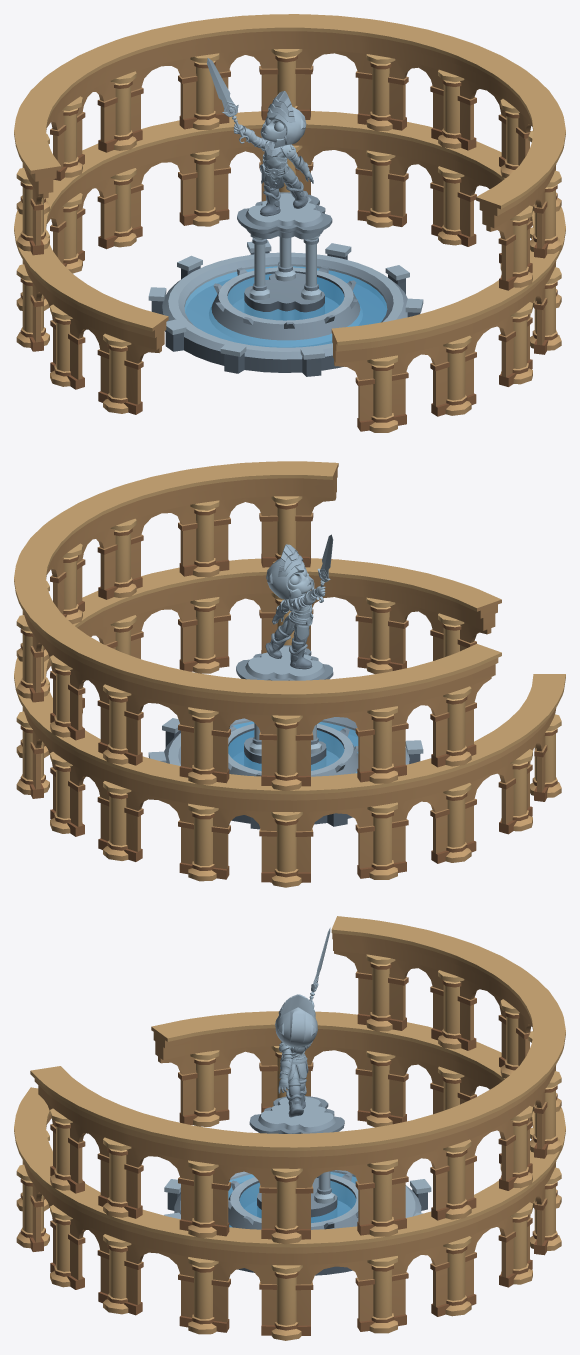
The model's file is colosseum.fbx.
3 views of the same model, one above another, from view 1: azimuth 30°, elevation 25°; view 2: azimuth 150°, elevation 25°; view 3: azimuth 270°, elevation 25° (orthographic).
Parts seen in each view (by area): view 1: colosseum, fountain, water, statue3; view 2: colosseum, fountain, statue3, water; view 3: colosseum, fountain, statue3, water.
Part boxes in pixels (box(x1,y1,x2,y2)): colosseum: box(14, 14, 565, 432); fountain: box(148, 192, 423, 376); water: box(184, 266, 387, 347); statue3: box(207, 58, 313, 216); colosseum: box(14, 461, 565, 887); fountain: box(148, 645, 423, 829); statue3: box(265, 534, 333, 669); water: box(228, 721, 358, 773); colosseum: box(14, 916, 565, 1340); fountain: box(164, 1096, 431, 1275); statue3: box(275, 928, 330, 1117); water: box(228, 1172, 357, 1227).
Size of the model in its own units: 70.88 by 37.64 by 70.69.
